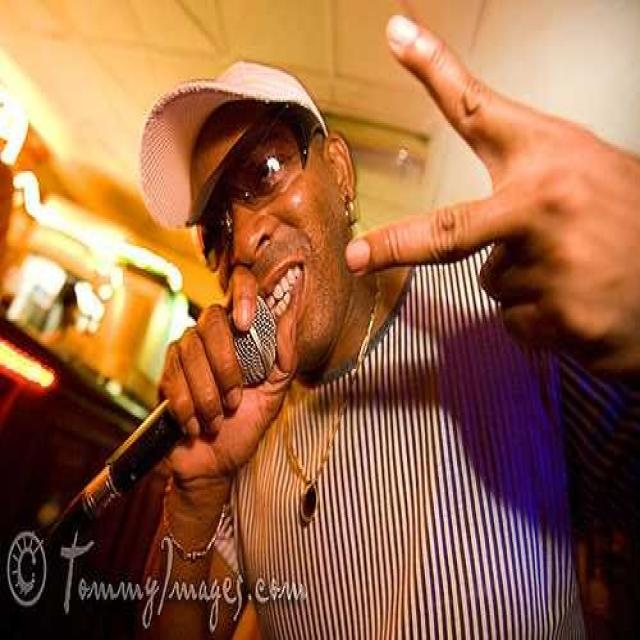microphone: (45, 288, 283, 548)
